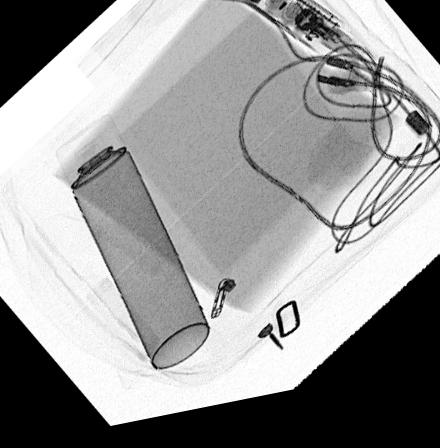Sprayer: (54, 114, 212, 378)
